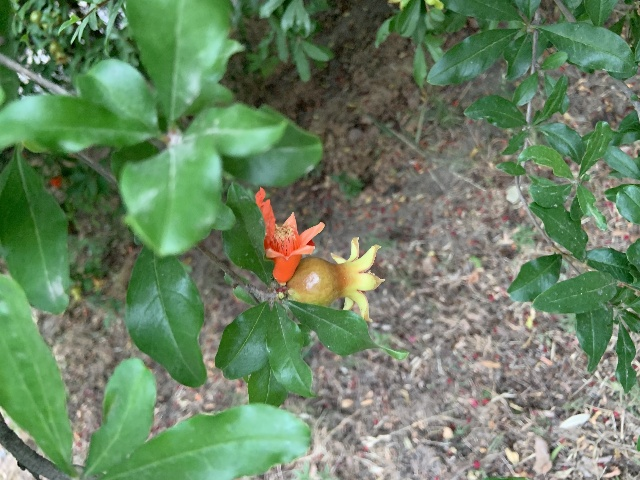early-fruit: (286, 237, 385, 321)
flower: (255, 187, 324, 283)
